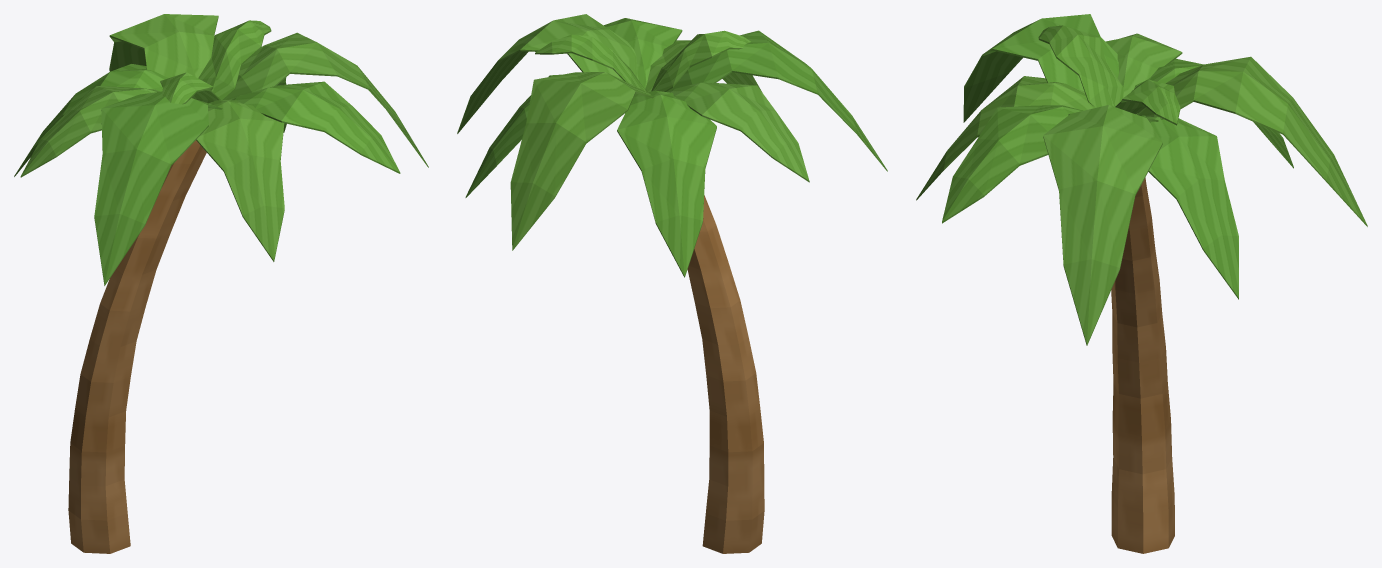
The model's file is palm_small.glb.
3 renders of one model, left to right at view 1: azimuth 30°, elevation 25°; view 2: azimuth 150°, elevation 25°; view 3: azimuth 270°, elevation 25°, orthographic. The views are drawn at different scales.
Visible parts, largest first — view 1: beach_palm_small; view 2: beach_palm_small; view 3: beach_palm_small.
Part boxes in pixels (x1,y1,x2,y2): beach_palm_small: (14, 14, 428, 553); beach_palm_small: (457, 14, 887, 553); beach_palm_small: (916, 14, 1367, 553).
Bounding box in the file's own units: 3.5 × 4.2 × 3.2.
Materials: 1 (1 with a texture image).
